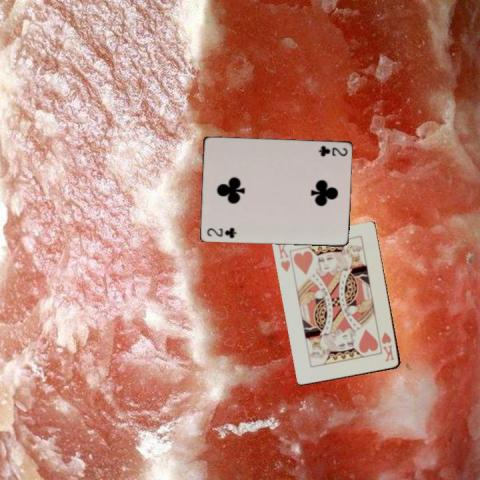2c: (204, 225, 237, 240), (315, 143, 349, 157)
Kh: (379, 330, 396, 364), (275, 240, 292, 274)
